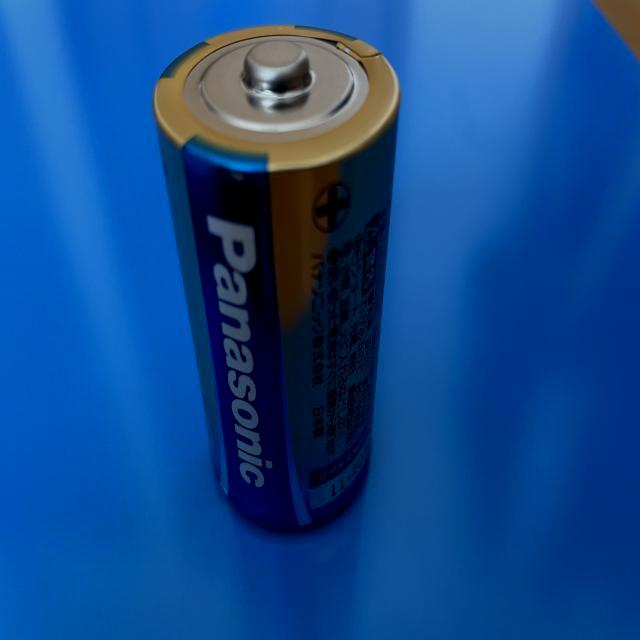AA: (152, 17, 410, 541)
